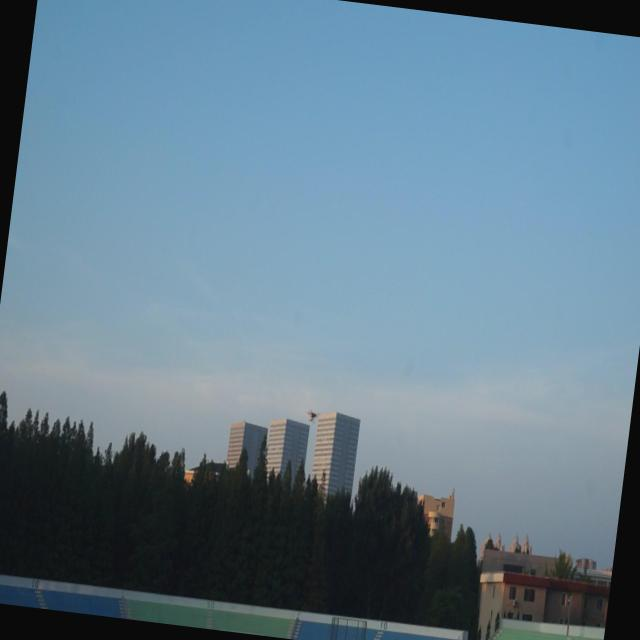drone: (304, 406, 321, 426)
